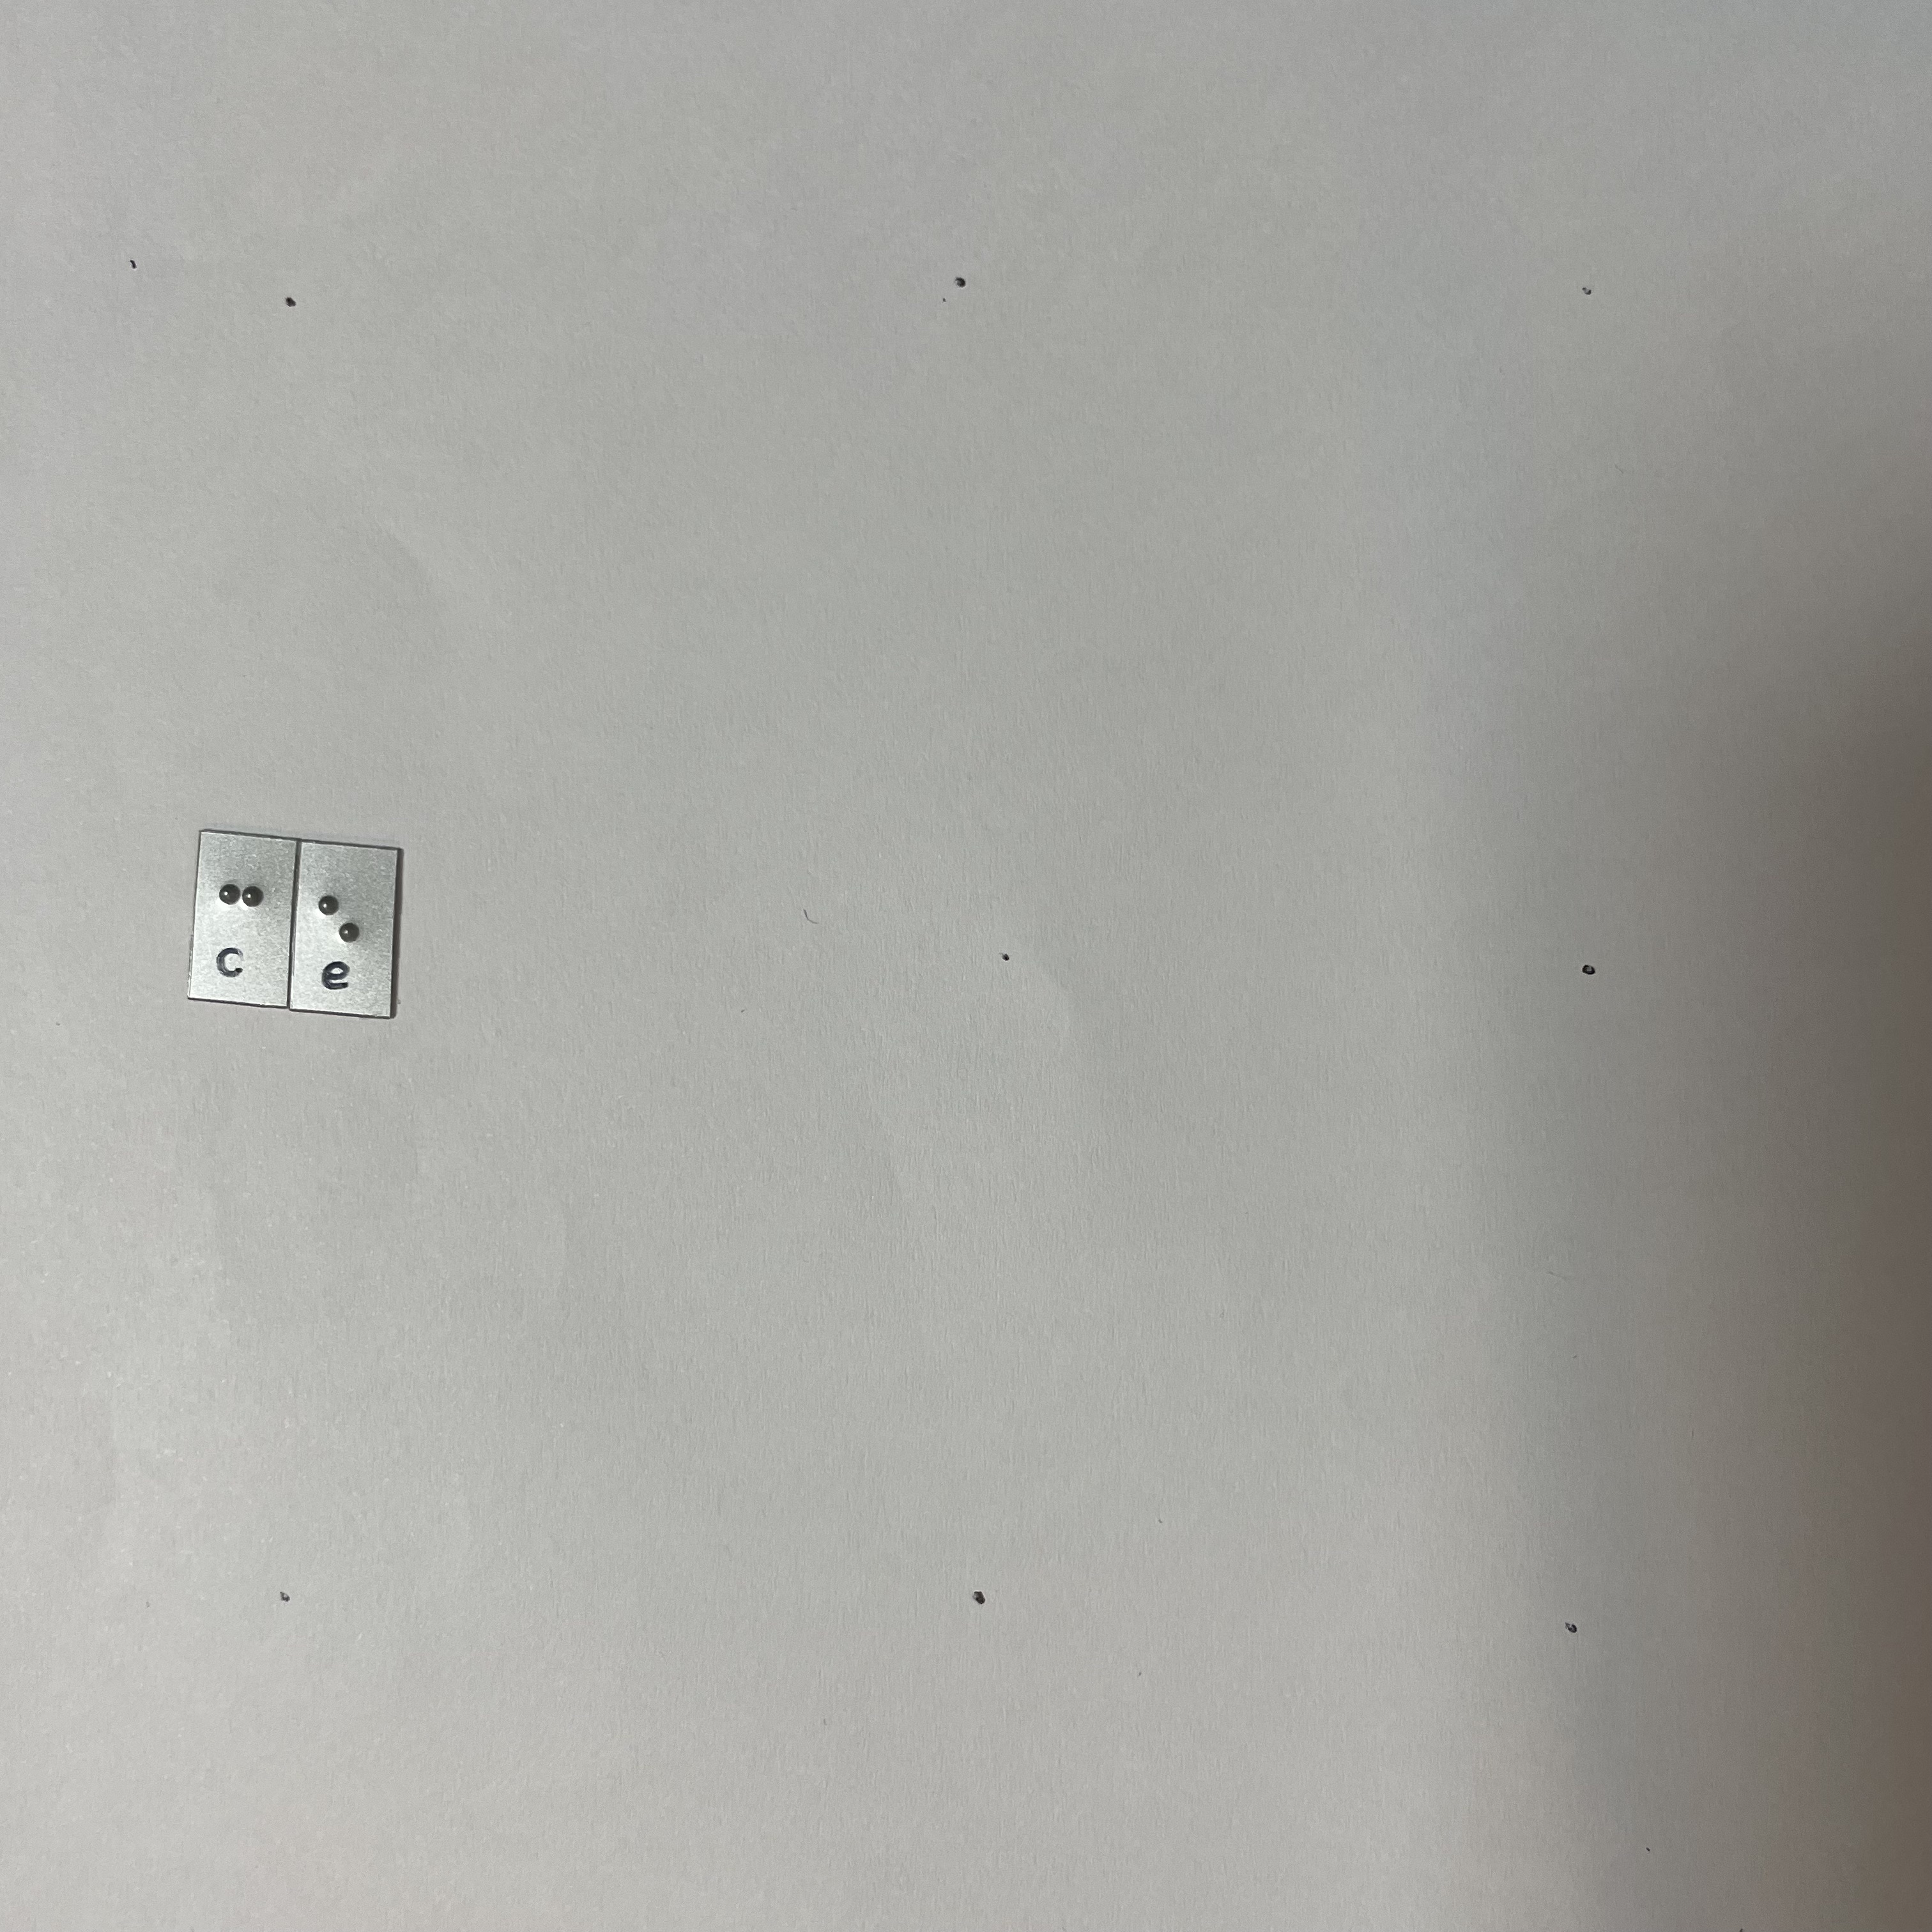c: (214, 866, 272, 943)
e: (313, 881, 371, 960)
